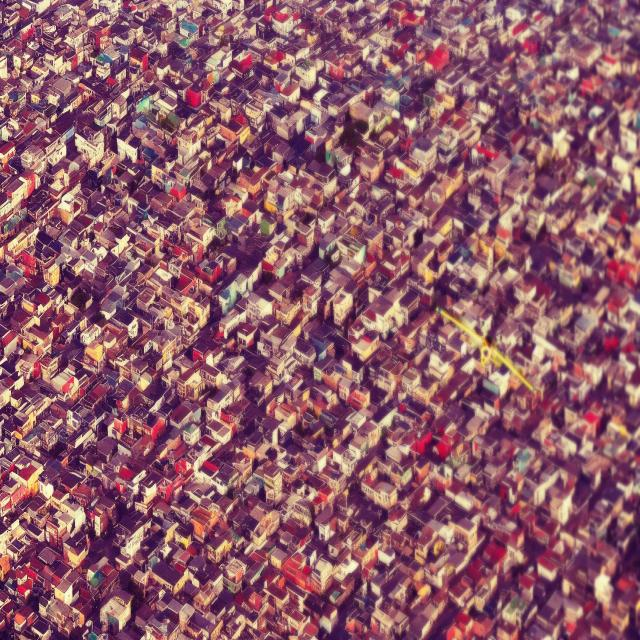airplane: (434, 306, 537, 394)
